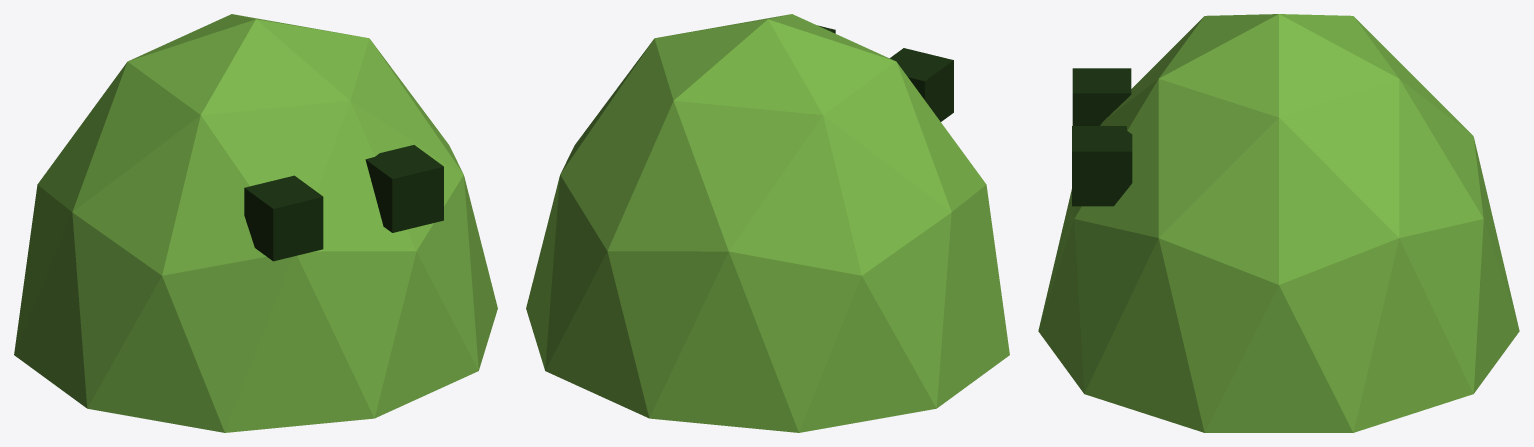
The model's file is slime.glb.
3 views of the same model, side by side, from view 1: azimuth 30°, elevation 25°; view 2: azimuth 150°, elevation 25°; view 3: azimuth 270°, elevation 25° (orthographic).
Parts seen in each view (by area): view 1: Slime_Body, Slime_Eye_1, Slime_Eye_2; view 2: Slime_Body, Slime_Eye_1; view 3: Slime_Body, Slime_Eye_2, Slime_Eye_1.
Part boxes in pixels (bbox=[...]): Slime_Body: bbox=[14, 14, 497, 432]; Slime_Eye_1: bbox=[244, 175, 323, 261]; Slime_Eye_2: bbox=[365, 145, 443, 232]; Slime_Body: bbox=[526, 14, 1009, 432]; Slime_Eye_1: bbox=[889, 48, 953, 121]; Slime_Body: bbox=[1038, 14, 1519, 432]; Slime_Eye_2: bbox=[1072, 126, 1132, 206]; Slime_Eye_1: bbox=[1072, 68, 1131, 125].
Bounding box in the file's own units: 1.38 × 1 × 1.38.
